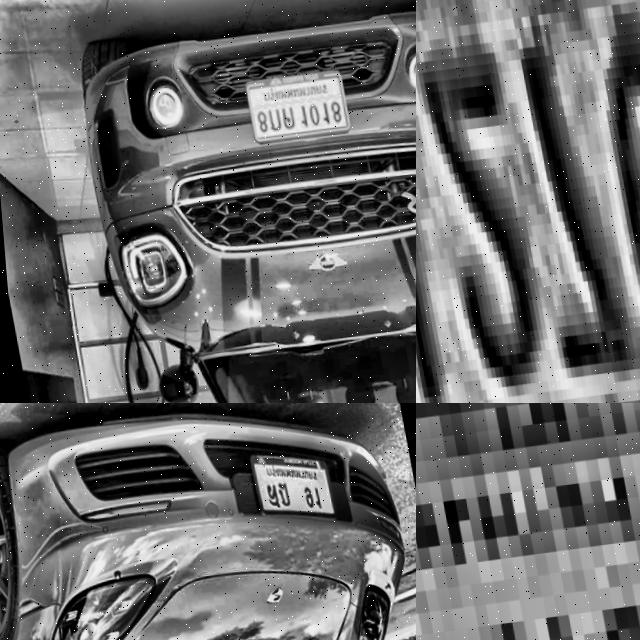license-plate: (416, 0, 640, 403), (416, 403, 640, 640), (238, 65, 353, 151), (244, 442, 344, 535)
